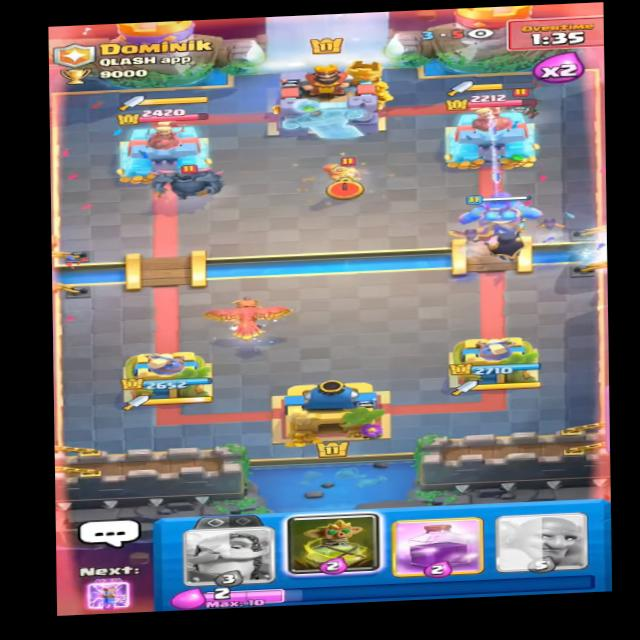bandit: (501, 87, 548, 119)
pekka: (148, 156, 234, 207)
